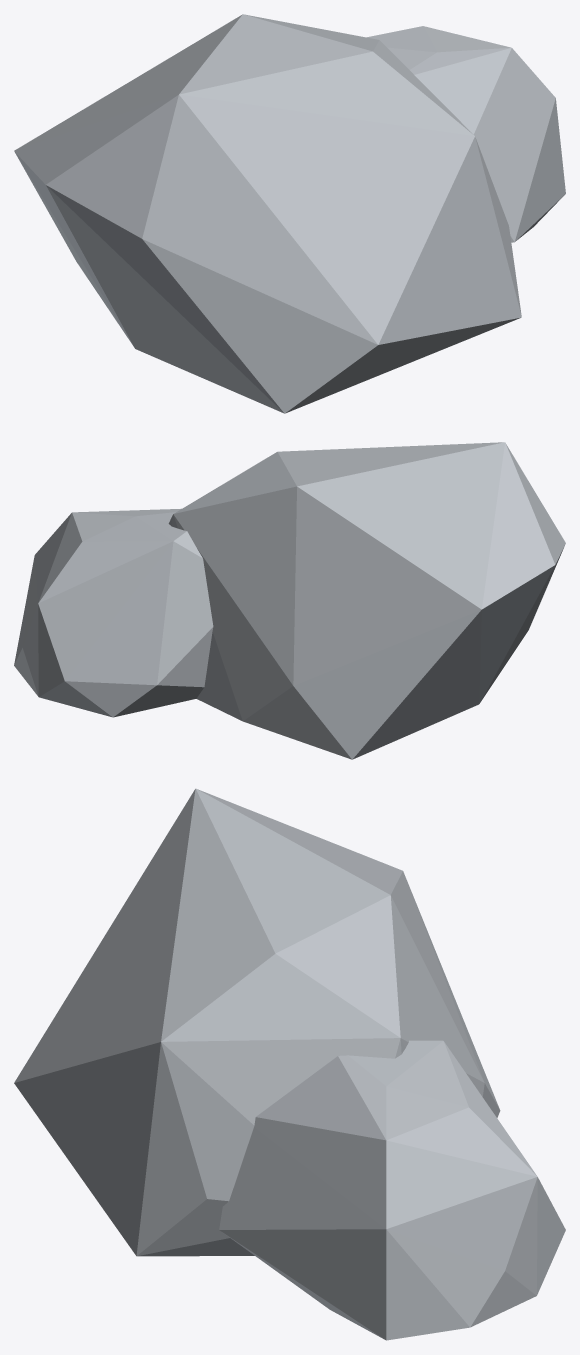
Rendered from Rock_Large.glb.
The picture shows the model from 3 angles, top to bottom: view 1: azimuth 30°, elevation 25°; view 2: azimuth 150°, elevation 25°; view 3: azimuth 270°, elevation 25°; orthographic projection. The views are drawn at different scales.
Visible parts, largest first — view 1: Rock_Large_Mesh; view 2: Rock_Large_Mesh; view 3: Rock_Large_Mesh.
Part boxes in pixels (x1,y1,x2,y2): Rock_Large_Mesh: (14, 14, 565, 413); Rock_Large_Mesh: (14, 442, 565, 759); Rock_Large_Mesh: (14, 788, 565, 1340).
Size of the model in its own units: 3.21 by 1.5 by 2.49.
Materials: 1 (1 with a texture image).
